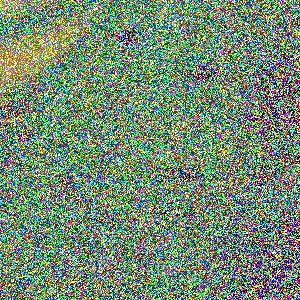Bacterial_Leaf_Blight: (148, 160, 210, 190), (181, 60, 240, 87), (104, 21, 148, 56), (156, 23, 211, 42), (7, 124, 48, 149), (239, 103, 266, 128), (140, 203, 176, 219), (78, 212, 121, 225), (16, 226, 38, 249), (50, 184, 74, 203), (169, 210, 200, 223), (62, 138, 84, 152), (55, 173, 73, 184), (232, 134, 244, 144)
